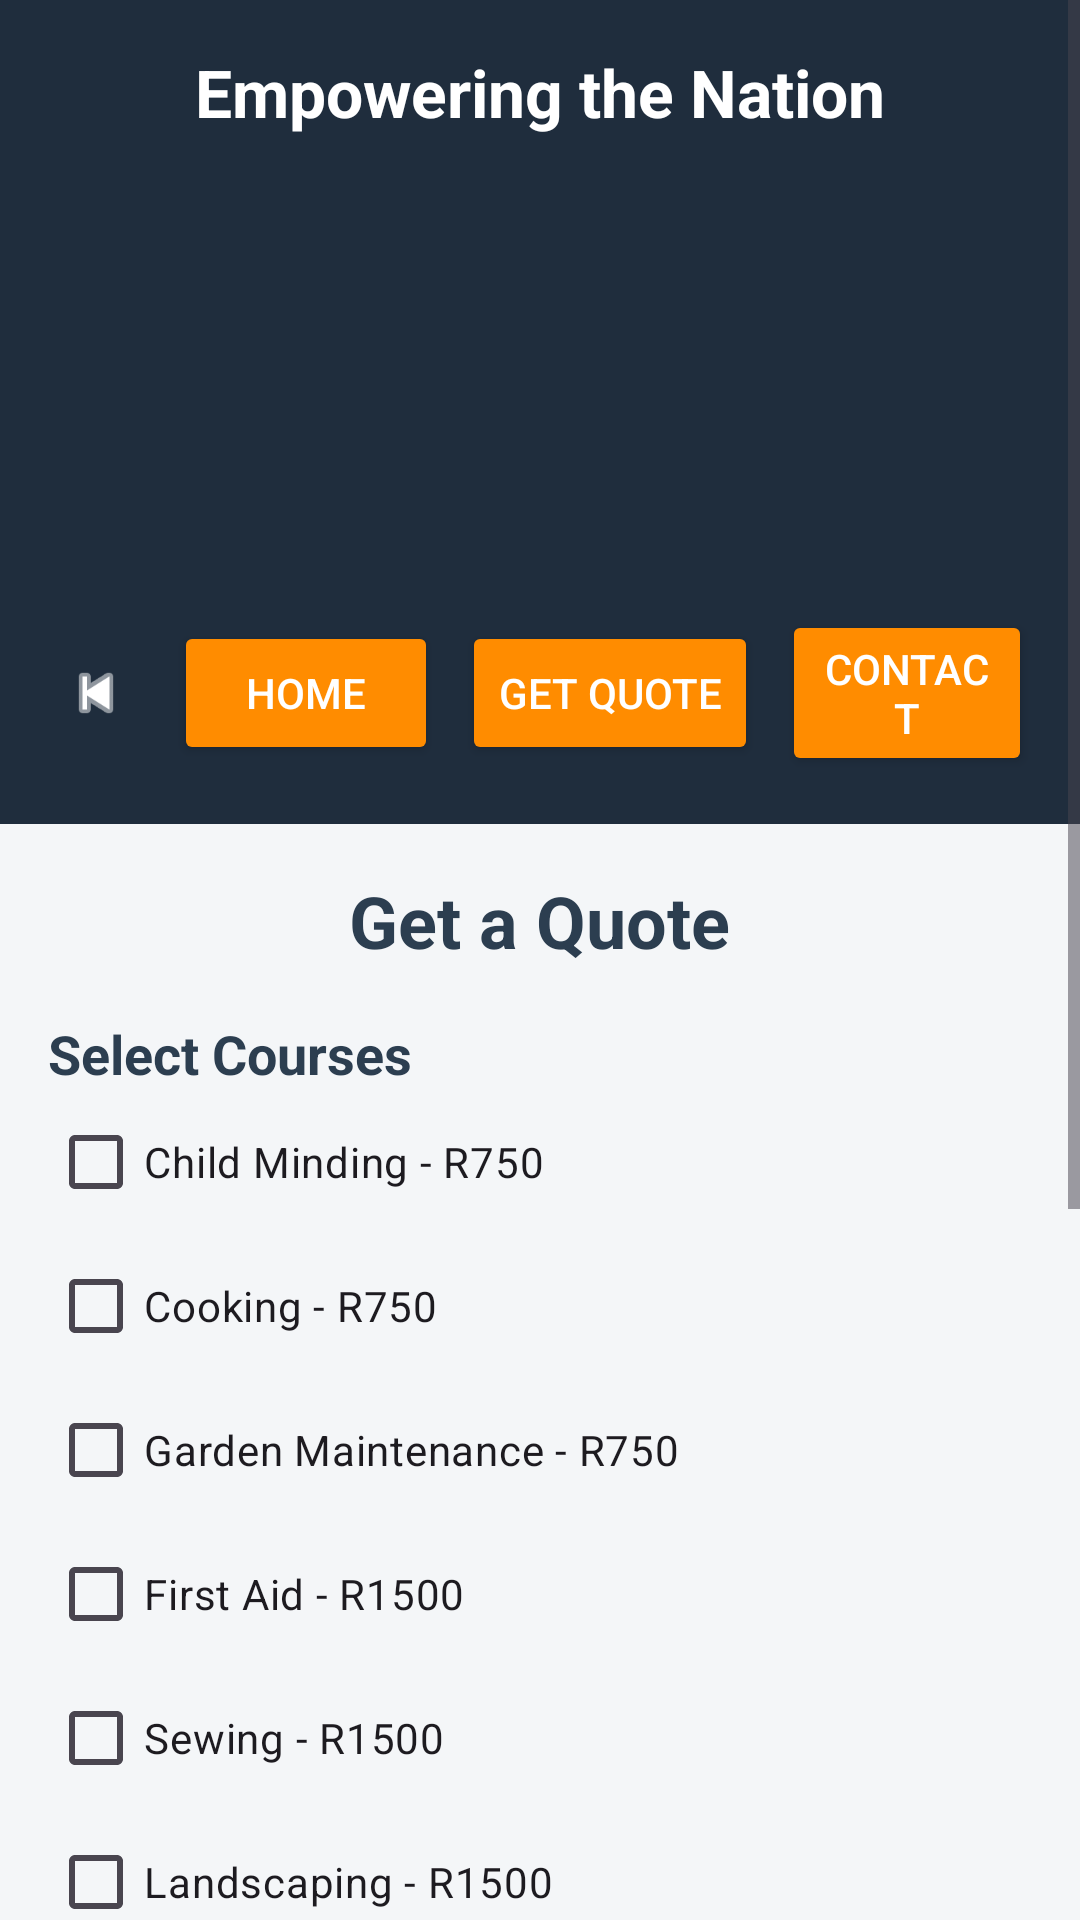

Icon click points for this 1080w x 1920h phone screenshot, format (x=x, y=y):
Back: (x=96, y=693)
